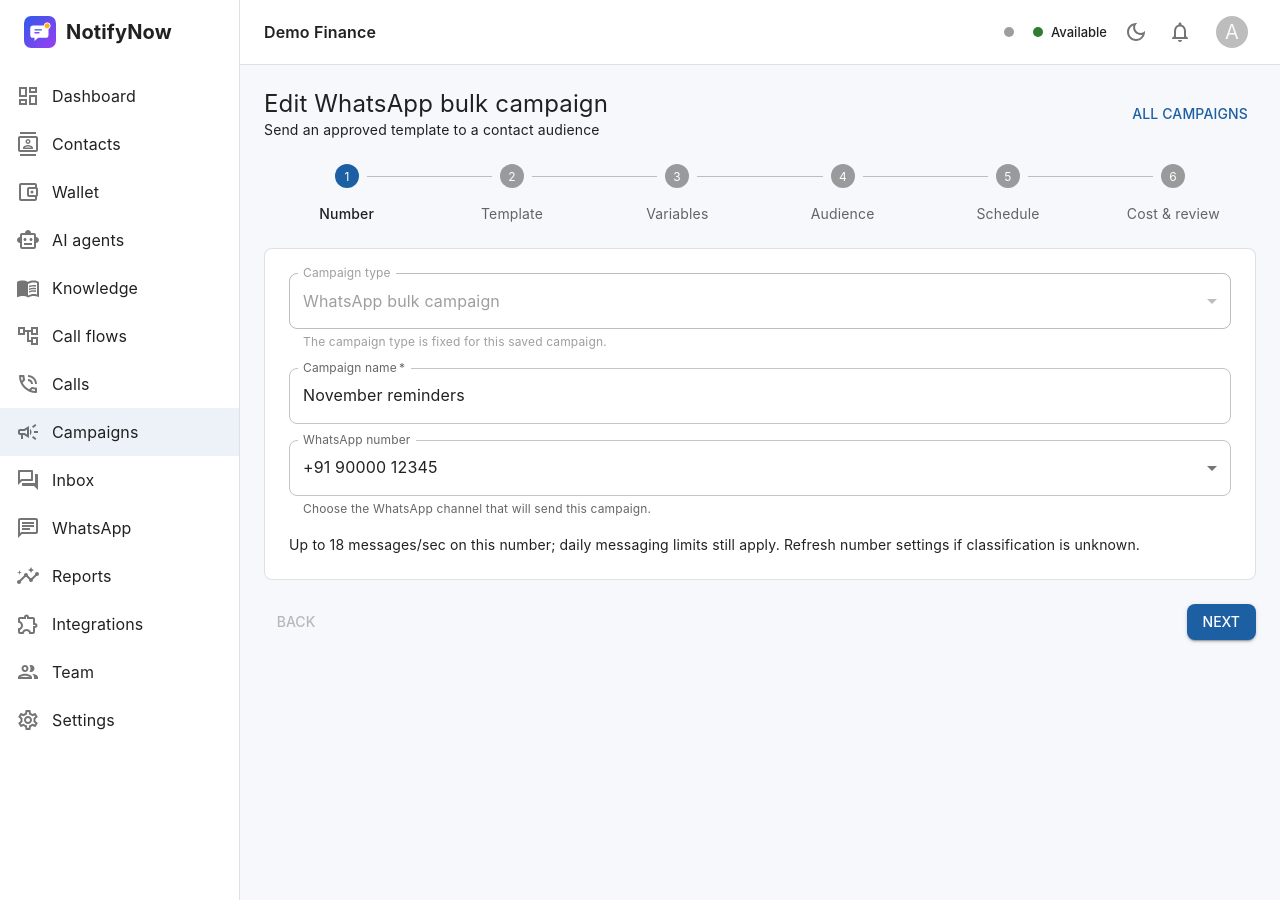
it: WhatsApp campaign wizard › shows a template load error and does not advance past variables
The width and height of the screenshot is (1280, 900).
Expected: the dropdown named "WhatsApp number" reads "+91 90000 12345", [303,458,438,478]
Click the button "Next" at x=1221, y=622, box [1187,604,1256,640]
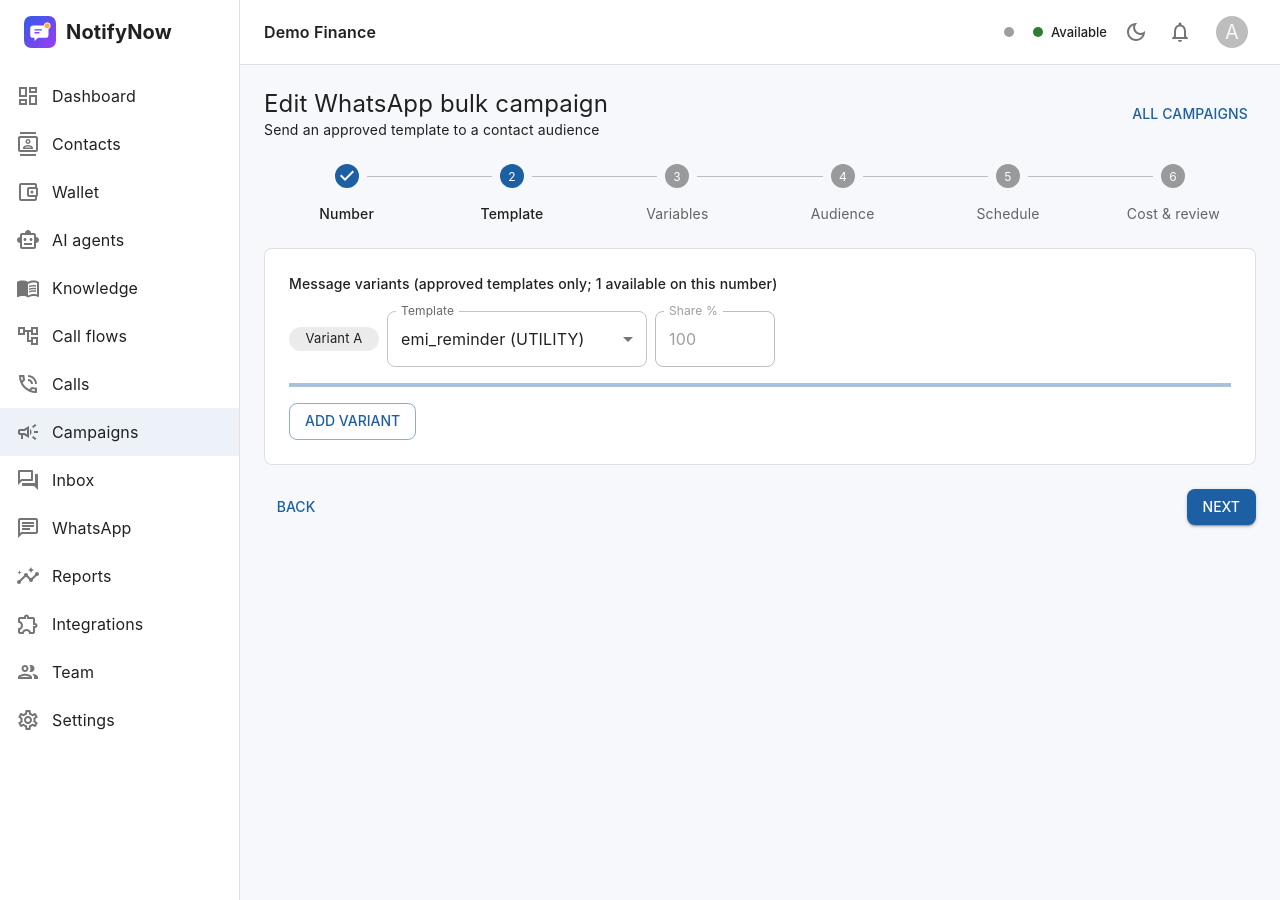
Click the button "Next" at x=1221, y=507, box [1187,488,1256,525]
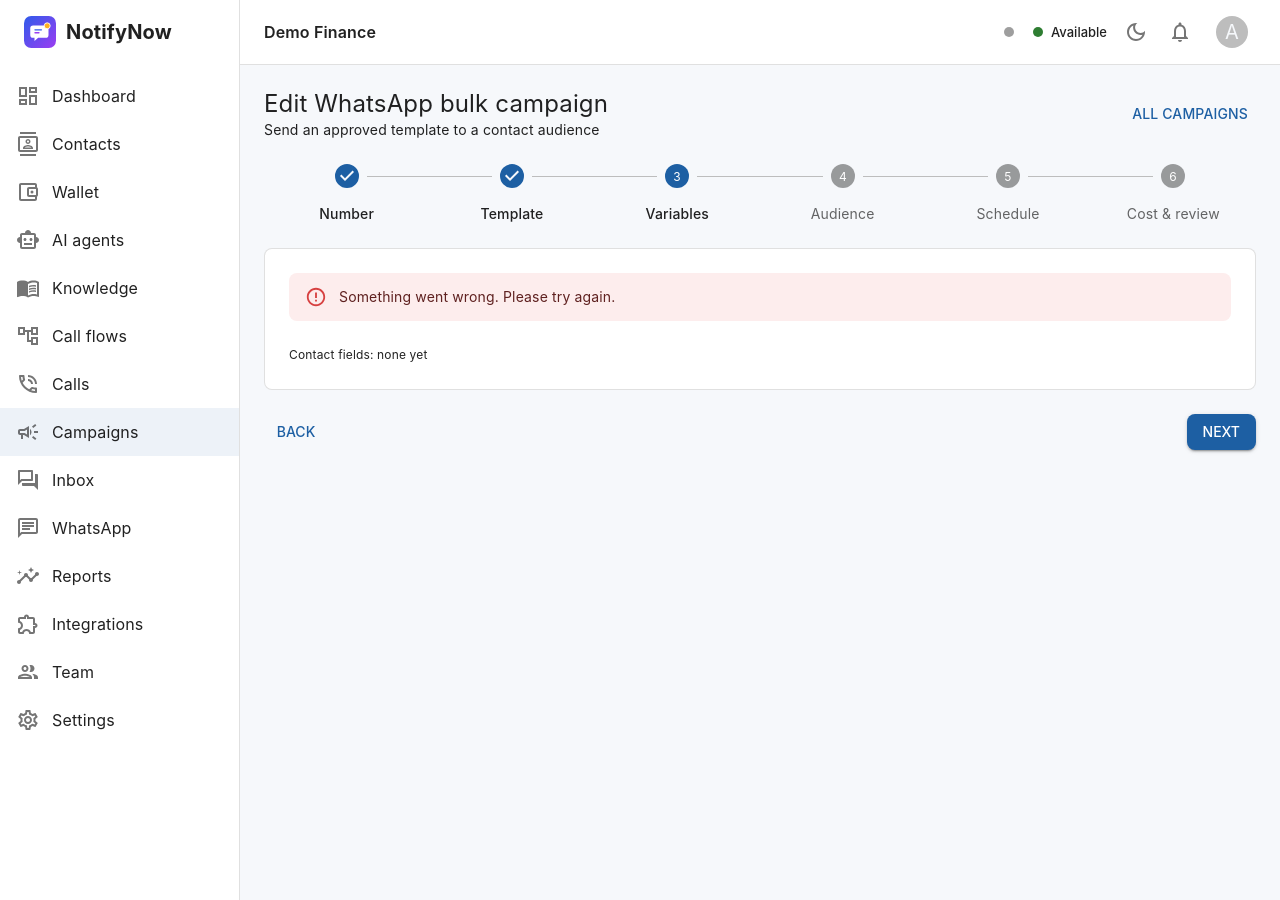
Click the button "Next" at x=1221, y=432, box [1187,414,1256,450]
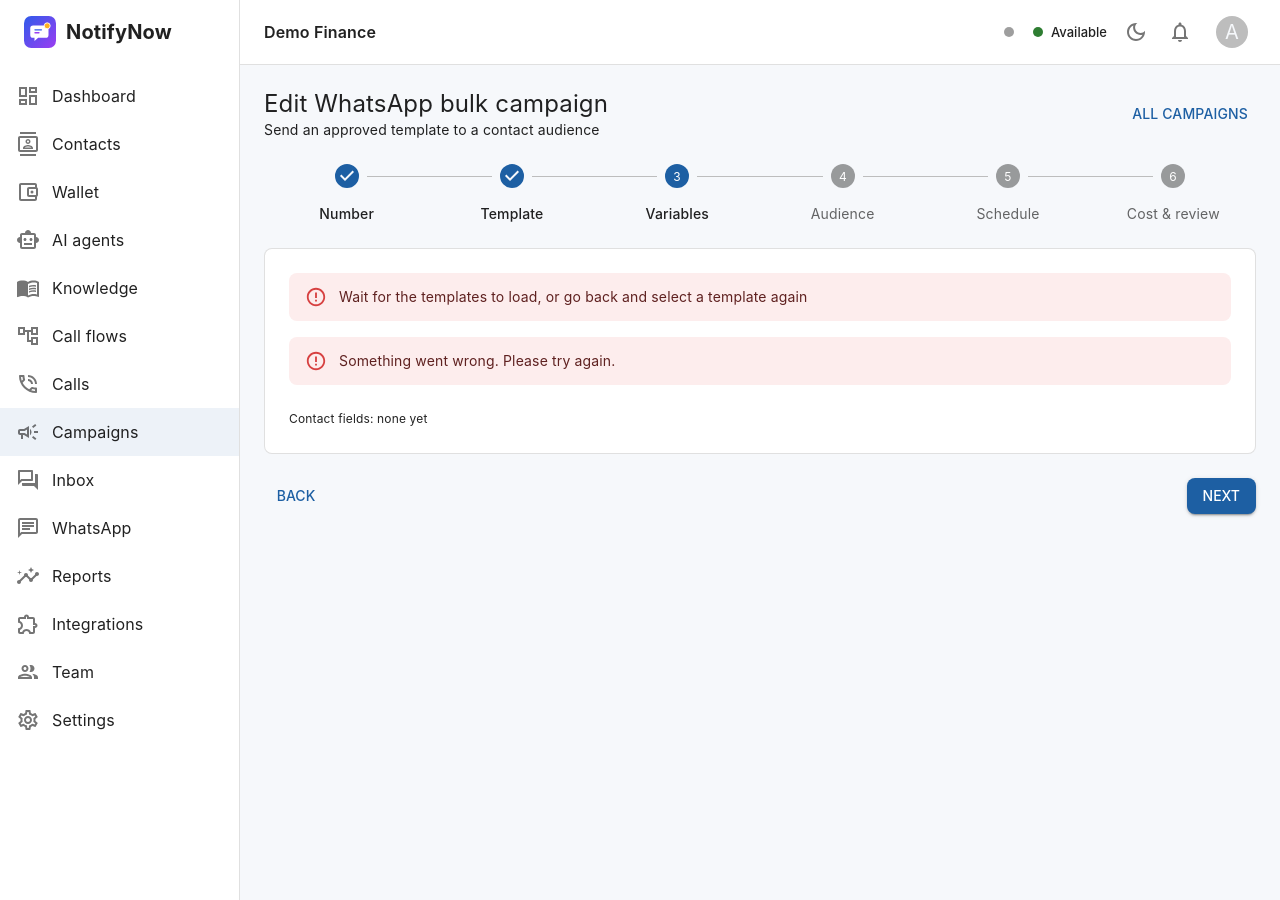
Result: the text "Wait for the templates to load" is shown at [339,288,807,305]
